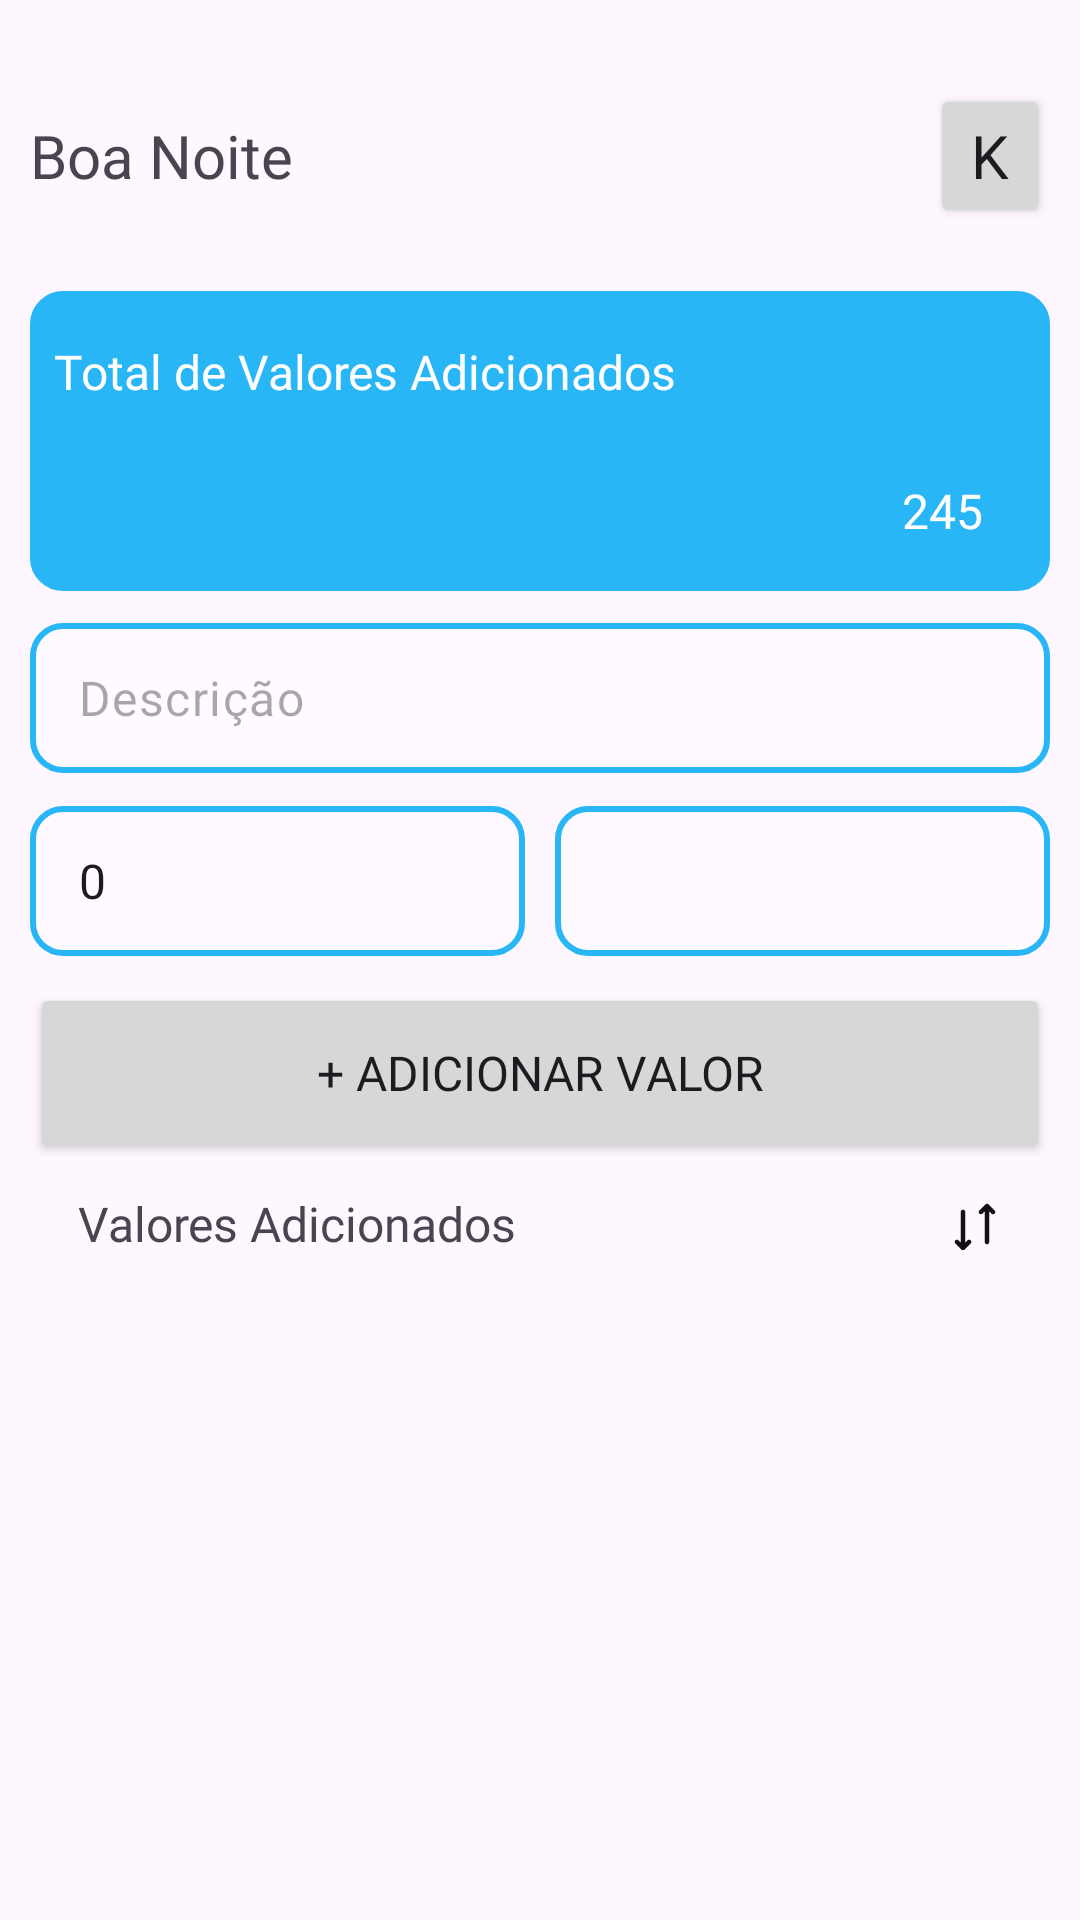

Named icons in this screenshot (1080×1920) and their centers, (x=x, y=y):
basil sort: (x=975, y=1227)
